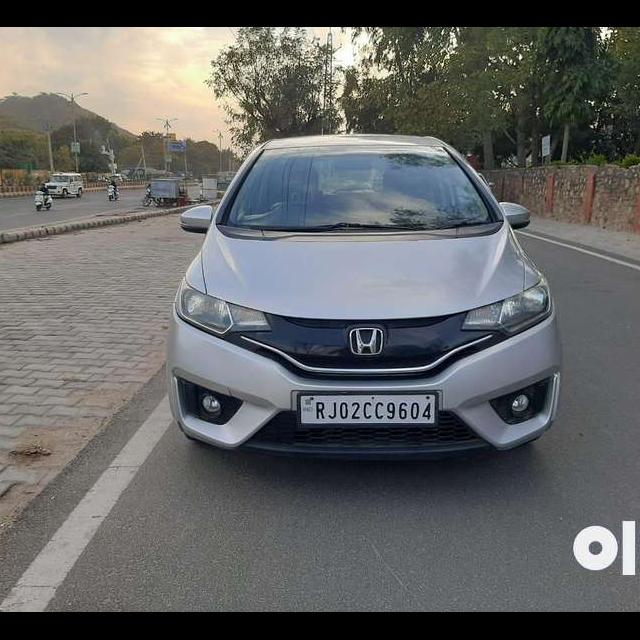Indian_Number_Plate: (296, 391, 439, 428)
